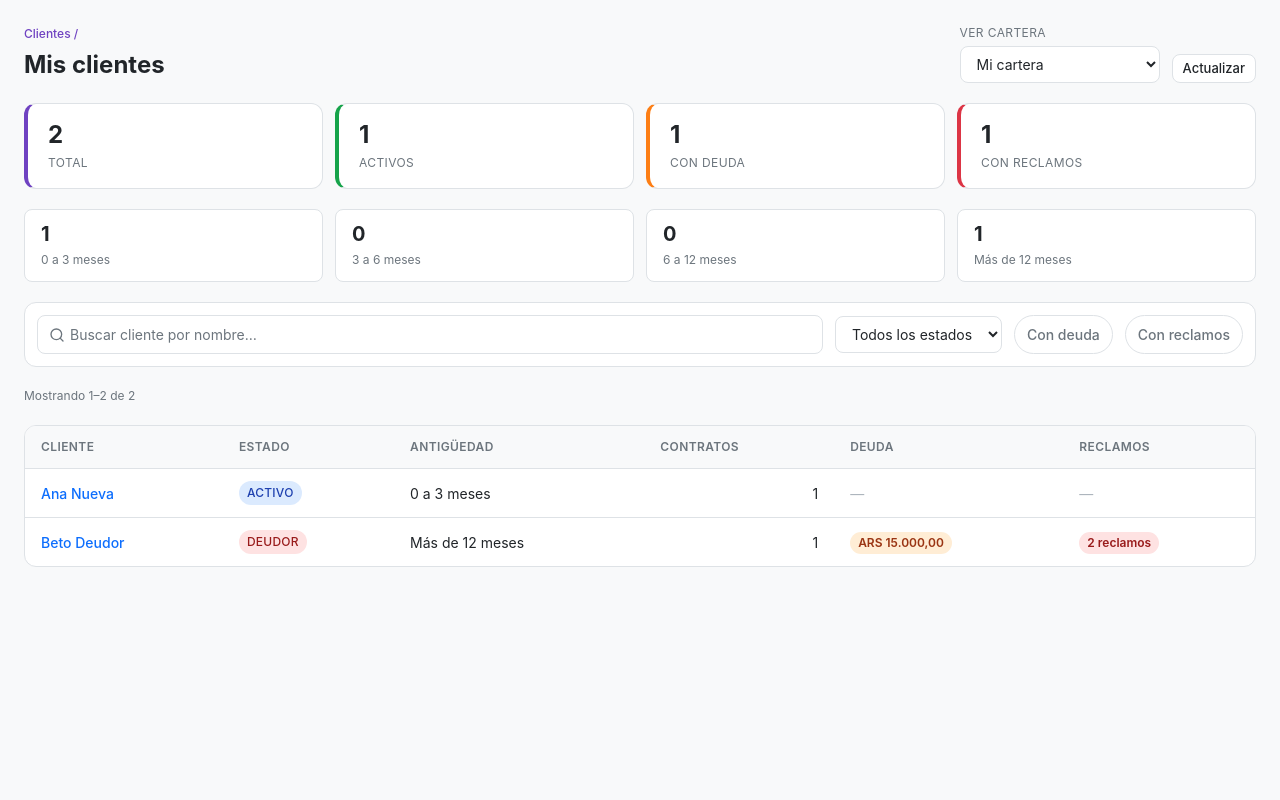
MisClientesPage › switching to a vendedor consumes the by-vendedor portfolio
Step 1. Select "Juan Vendedor" in the dropdown labelled "Ver cartera" → (1060, 64), box [960,46,1160,83]
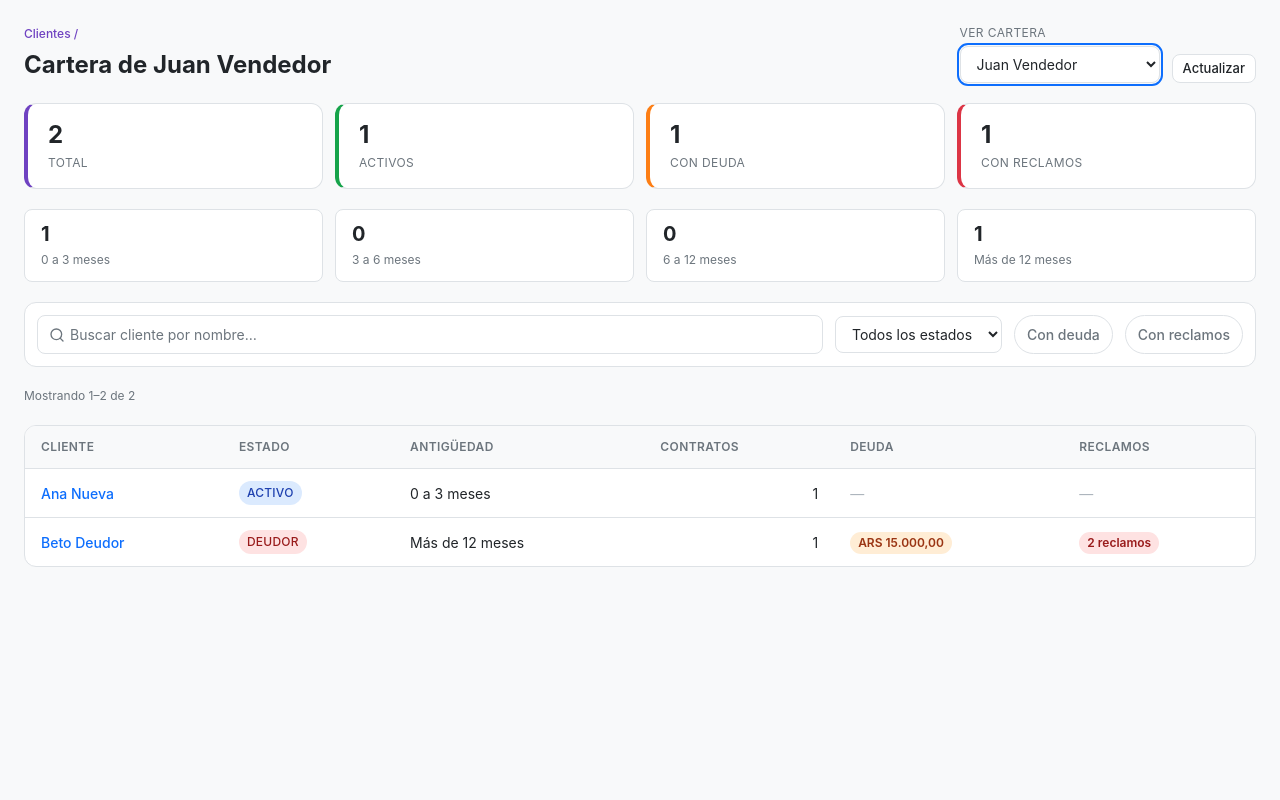
Check: the link "Ana Nueva" is shown, box [41,484,114,502]
Check: the heading "Cartera de Juan Vendedor" is shown, box [24,47,331,83]
